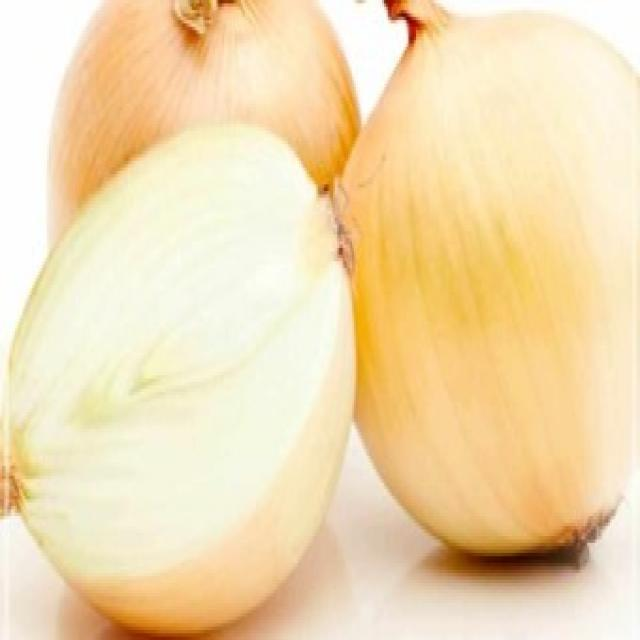onion: (342, 14, 638, 590), (9, 133, 340, 613)
